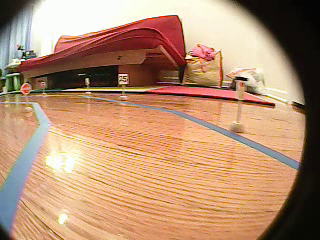Speed Limit 25: (116, 73, 129, 86)
Stop Sign: (19, 82, 32, 95)
